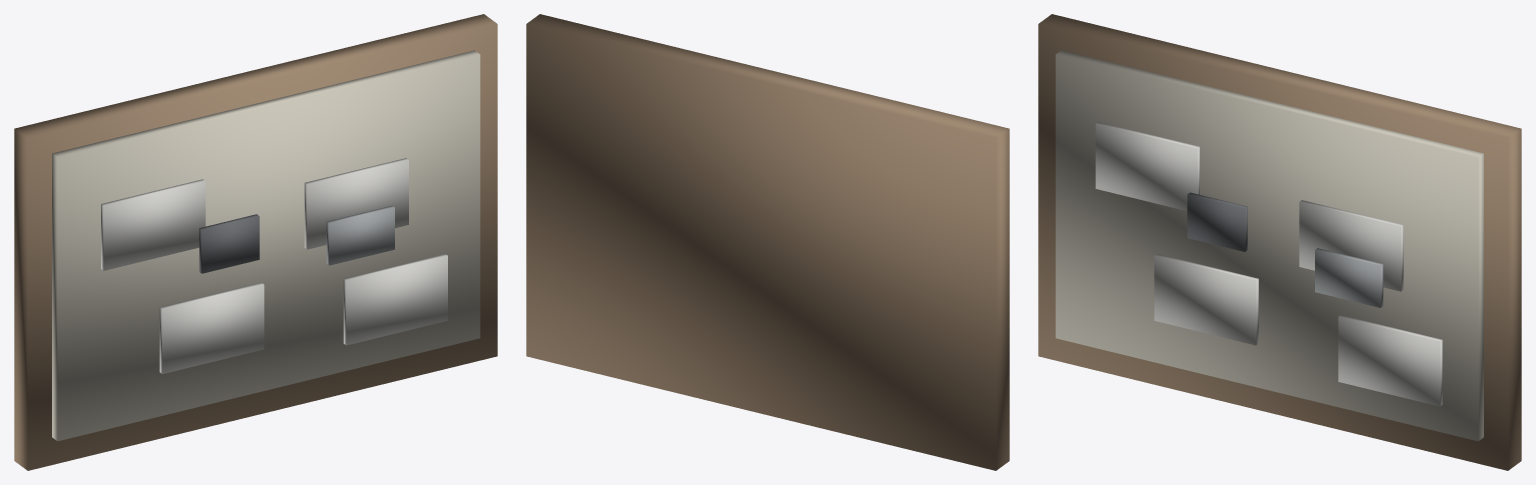
Rendered from timetable_board__weathered.glb.
3 renders of one model, left to right at view 1: azimuth 30°, elevation 25°; view 2: azimuth 150°, elevation 25°; view 3: azimuth 330°, elevation 25°, orthographic.
Parts seen in each view (by area): view 1: world; view 2: world; view 3: world.
Boxes of the visible parts, bbox=[...] form: world: bbox=[14, 14, 497, 470]; world: bbox=[526, 14, 1009, 470]; world: bbox=[1038, 14, 1521, 470].
Bounding box in the file's own units: 1.2 × 0.8118 × 0.115.
